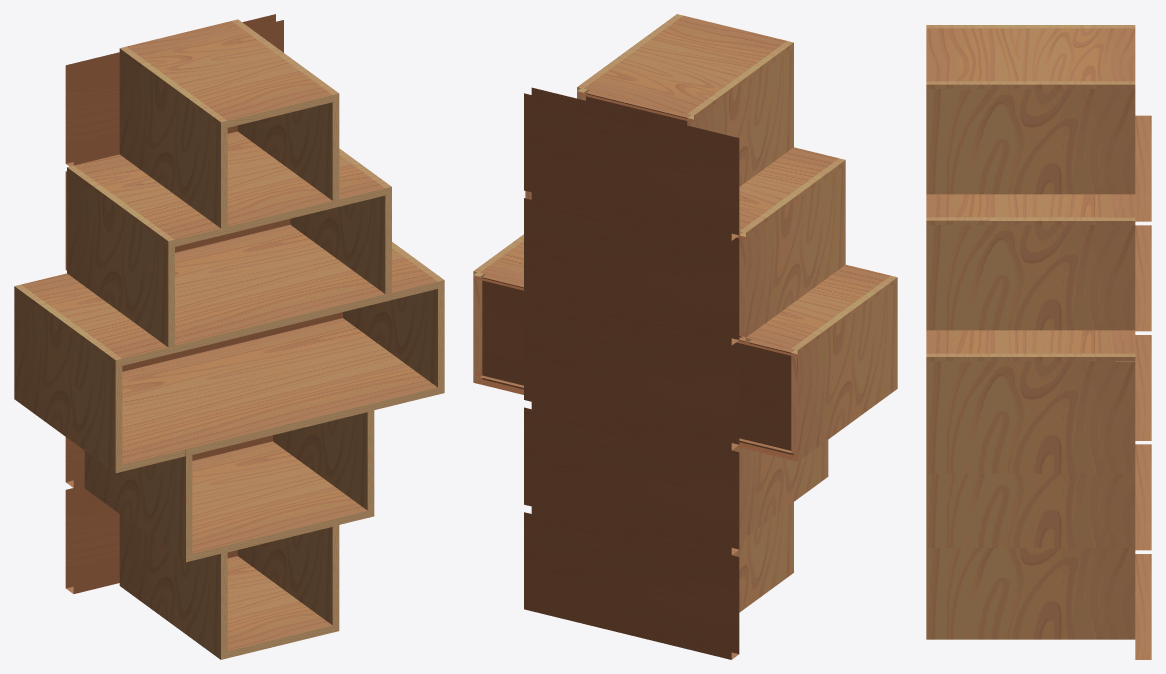
The model's file is layout_diamond_shape_9c.fbx.
The picture shows the model from 3 angles, left to right: view 1: azimuth 30°, elevation 25°; view 2: azimuth 150°, elevation 25°; view 3: azimuth 270°, elevation 25°; orthographic projection. The views are drawn at different scales.
Parts seen in each view (by area): view 1: Shelf-BM-00 1, Shelf-BM-00 2, Shelf-BM-00, Shelf-TM-00 4, Shelf-CL-01 4, Shelf-CL-01 1, Shelf-CL-01 2, Shelf-CL-01 3, Shelf-TM-00 1, Shelf-TM-00 2, Shelf-Back-00 (1) 4, Shelf-CL-01 (+19 smaller); view 2: Shelf-Back-00 (1) 4, Shelf-Back-00 (1) 2, Shelf-Back-00 (1), Shelf-Back-00 (1) 1, Shelf-Back-00 (1) 3, Shelf-CL-01 2, Shelf-CL-01 1, Shelf-TM-00 4, Shelf-Back-00 1, Shelf-CL-01 4, Shelf-TM-00 1, Shelf-CL-01 (+11 smaller); view 3: Shelf-CR-01 1, Shelf-CR-01 2, Shelf-CR-01 4, Shelf-CR-01 3, Shelf-CR-01, Shelf-TM-00 4, Shelf-TM-00 1, Shelf-TM-00 2, Shelf-CR-00 (1) 1, Shelf-Back-00 (1), Shelf-Back-00 (1) 2, Shelf-Back-00 (1) 4 (+8 smaller).
Part boxes in pixels (box(x1,y1,x2,y2)): Shelf-BM-00 1: box(122, 318, 437, 471); Shelf-BM-00 2: box(175, 224, 385, 351); Shelf-BM-00: box(192, 441, 367, 560); Shelf-TM-00 4: box(126, 21, 332, 127); Shelf-CL-01 4: box(119, 53, 227, 227); Shelf-CL-01 1: box(14, 290, 122, 465); Shelf-CL-01 2: box(67, 171, 174, 346); Shelf-CL-01 3: box(119, 514, 227, 652); Shelf-TM-00 1: box(21, 248, 437, 365); Shelf-TM-00 2: box(74, 154, 385, 246); Shelf-Back-00 (1) 4: box(65, 14, 283, 166); Shelf-CL-01: box(84, 451, 192, 554); Shelf-Back-00 (1) 4: box(524, 87, 739, 240); Shelf-Back-00 (1) 2: box(524, 192, 739, 345); Shelf-Back-00 (1): box(524, 402, 739, 555); Shelf-Back-00 (1) 1: box(524, 297, 739, 450); Shelf-Back-00 (1) 3: box(524, 506, 739, 659); Shelf-CL-01 2: box(739, 164, 845, 337); Shelf-CL-01 1: box(791, 281, 897, 454); Shelf-TM-00 4: box(584, 15, 786, 120); Shelf-Back-00 1: box(482, 274, 797, 455); Shelf-CL-01 4: box(687, 47, 793, 186); Shelf-TM-00 1: box(480, 241, 890, 355); Shelf-CL-01: box(732, 440, 828, 534); Shelf-CR-01 1: box(926, 361, 1135, 466); Shelf-CR-01 2: box(926, 225, 1135, 329); Shelf-CR-01 4: box(926, 89, 1135, 193); Shelf-CR-01 3: box(926, 548, 1135, 632); Shelf-CR-01: box(926, 473, 1135, 540); Shelf-TM-00 4: box(926, 28, 1135, 81); Shelf-TM-00 1: box(926, 330, 1135, 353); Shelf-TM-00 2: box(926, 194, 1135, 217); Shelf-CR-00 (1) 1: box(926, 353, 1135, 361); Shelf-Back-00 (1): box(1135, 444, 1151, 550); Shelf-Back-00 (1) 2: box(1135, 225, 1151, 331); Shelf-Back-00 (1) 4: box(1135, 115, 1151, 221).
Bounding box in the file's own units: 150 × 234 × 86.3.
